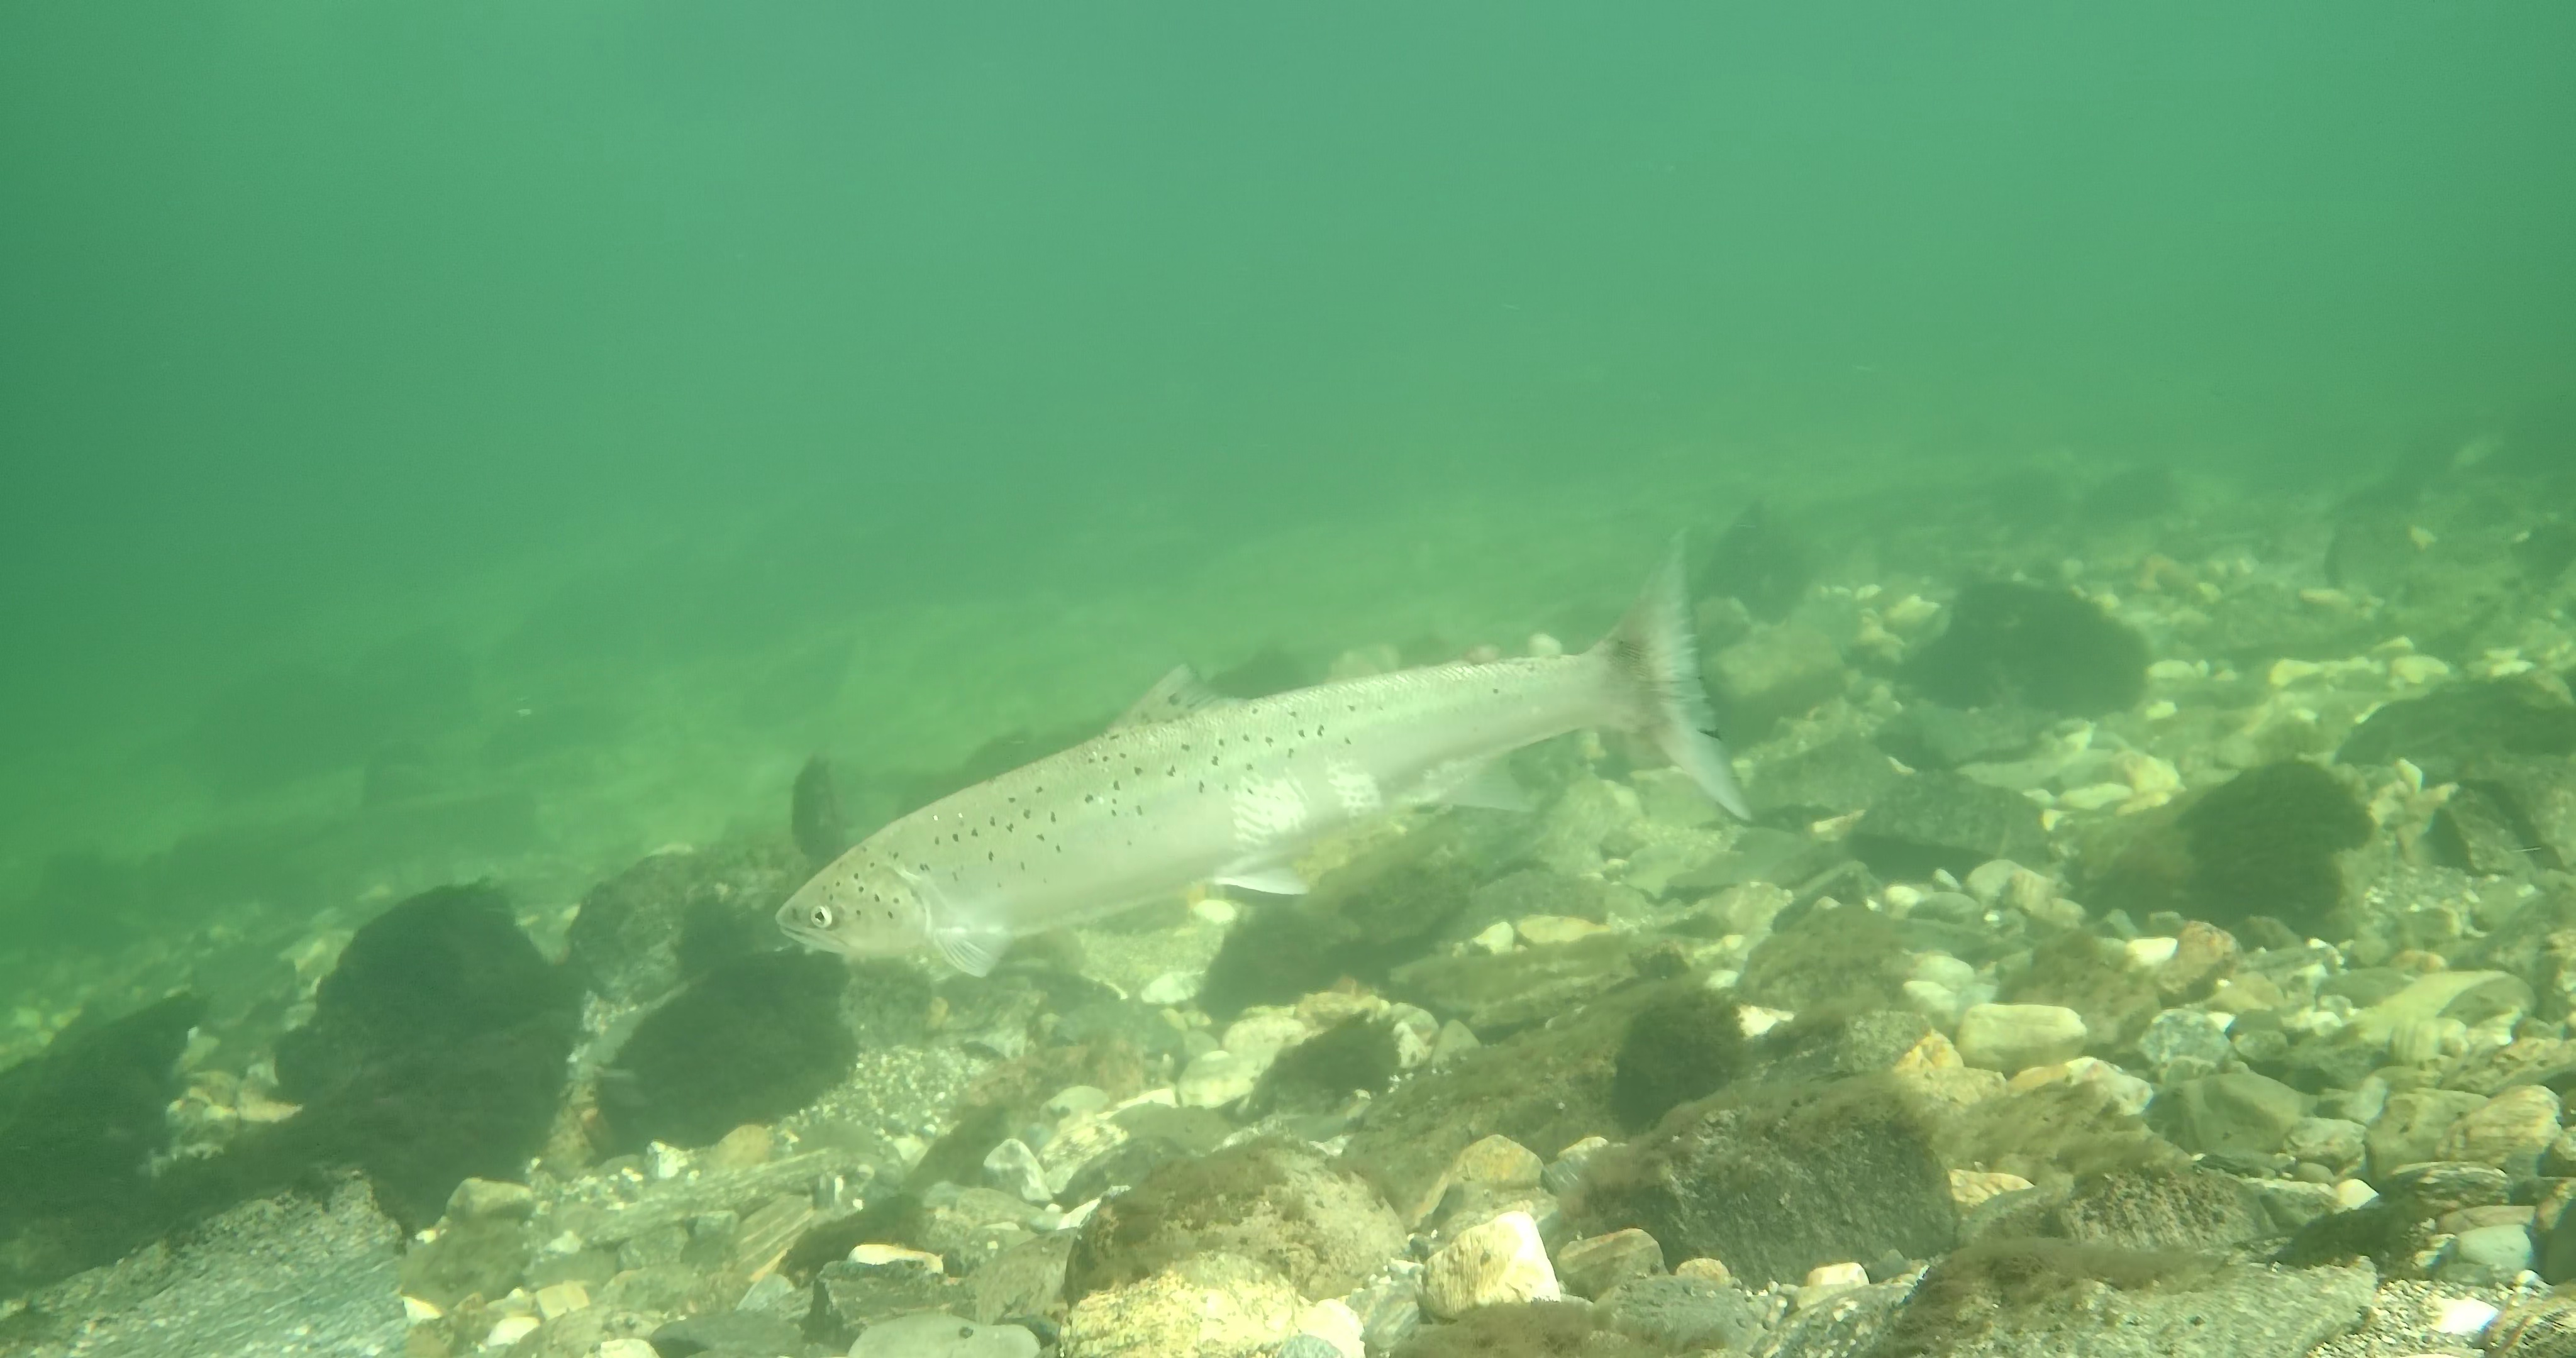salmon: (770, 521, 1760, 981)
